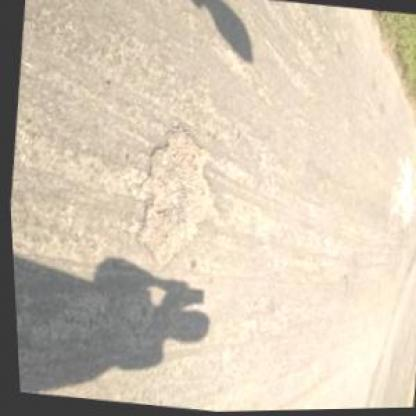pothole: (122, 118, 230, 280)
